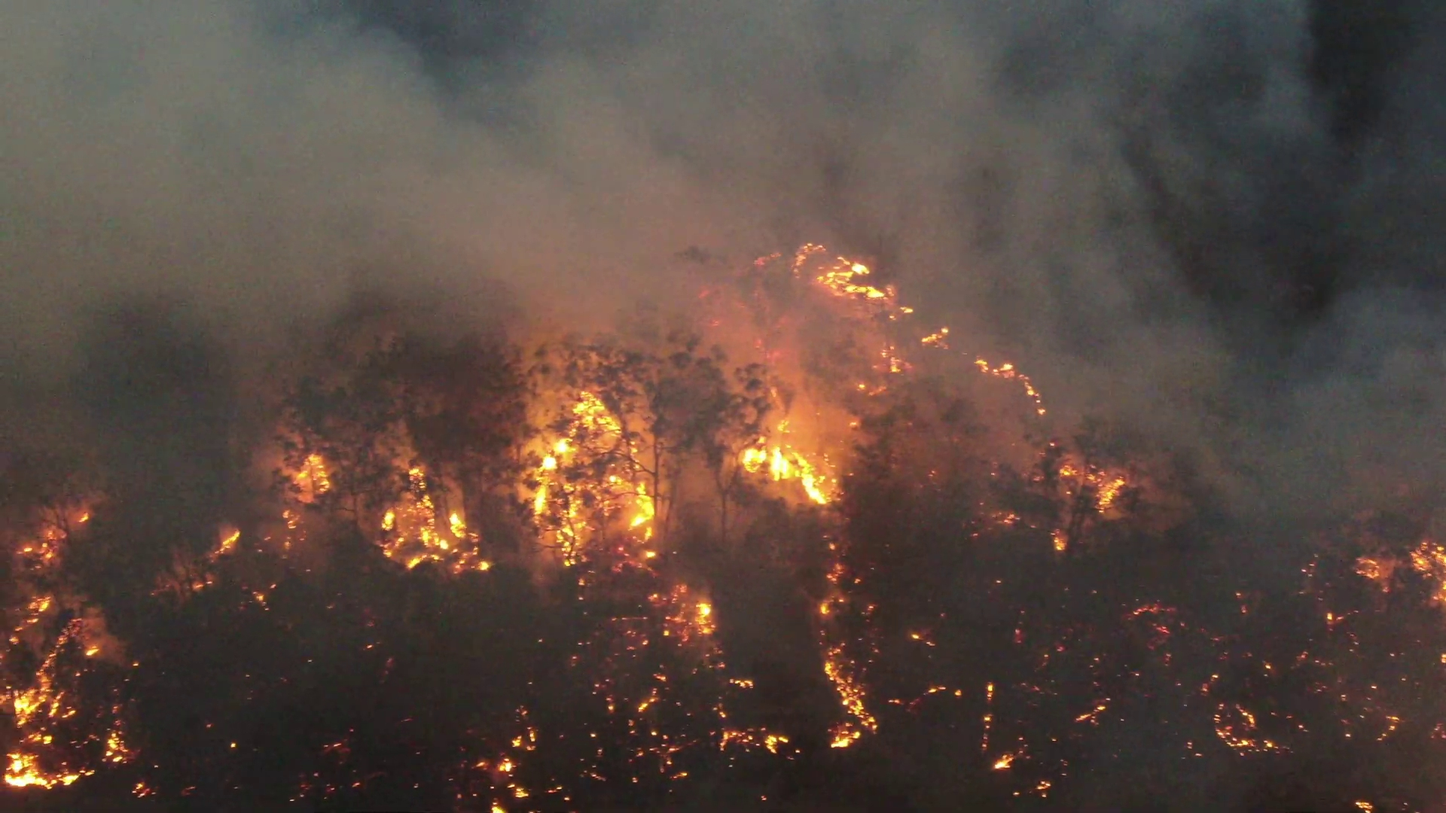forest_fire: (3, 245, 1445, 811), (1340, 775, 1433, 808), (1138, 775, 1170, 797), (911, 795, 944, 806), (1155, 496, 1175, 505), (9, 472, 17, 476), (730, 336, 734, 339), (1153, 457, 1157, 459), (734, 341, 737, 343), (39, 801, 43, 802)
